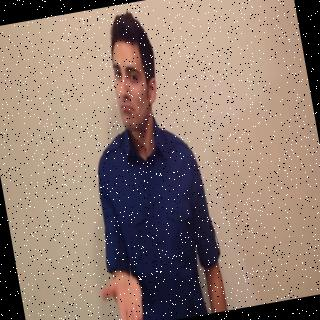ThankYou: (53, 4, 231, 320)
